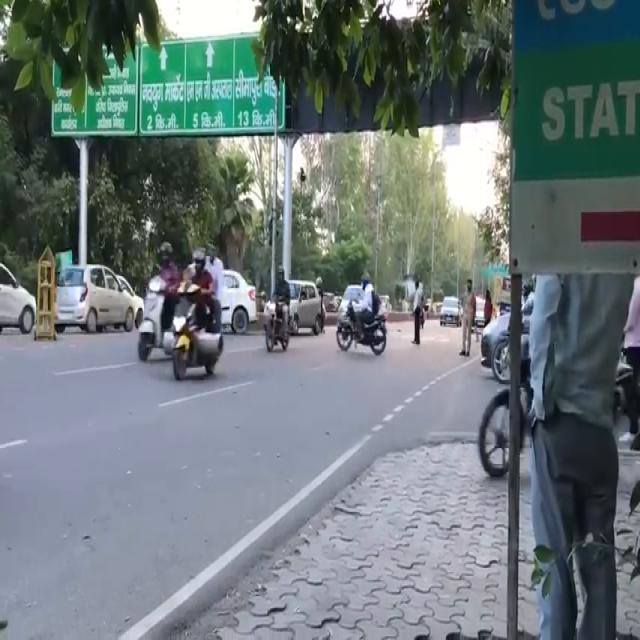MOTORCYCLE: (168, 278, 225, 384), (335, 297, 387, 354), (265, 297, 292, 354)
